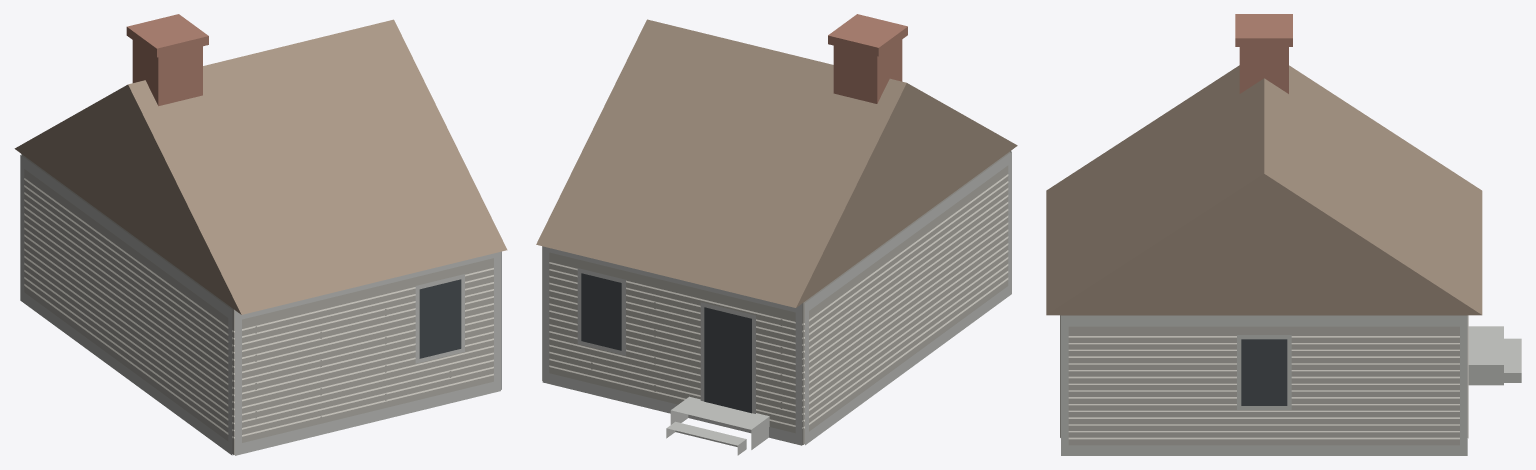
Rendered from recon_1835_blk_randolph_clinton_d3_04__inferred_1835.glb.
3 renders of one model, left to right at view 1: azimuth 30°, elevation 25°; view 2: azimuth 150°, elevation 25°; view 3: azimuth 270°, elevation 25°, orthographic. The views are drawn at different scales.
Parts seen in each view (by area): view 1: recon_1835_blk_randolph_clinton_d3_04__inferred_1835; view 2: recon_1835_blk_randolph_clinton_d3_04__inferred_1835; view 3: recon_1835_blk_randolph_clinton_d3_04__inferred_1835.
Boxes of the visible parts, x1,y1,x2,y2 form: recon_1835_blk_randolph_clinton_d3_04__inferred_1835: (14, 14, 507, 455); recon_1835_blk_randolph_clinton_d3_04__inferred_1835: (536, 14, 1017, 455); recon_1835_blk_randolph_clinton_d3_04__inferred_1835: (1046, 14, 1521, 455).
Bounding box in the file's own units: 5.09 × 6.06 × 8.08.
